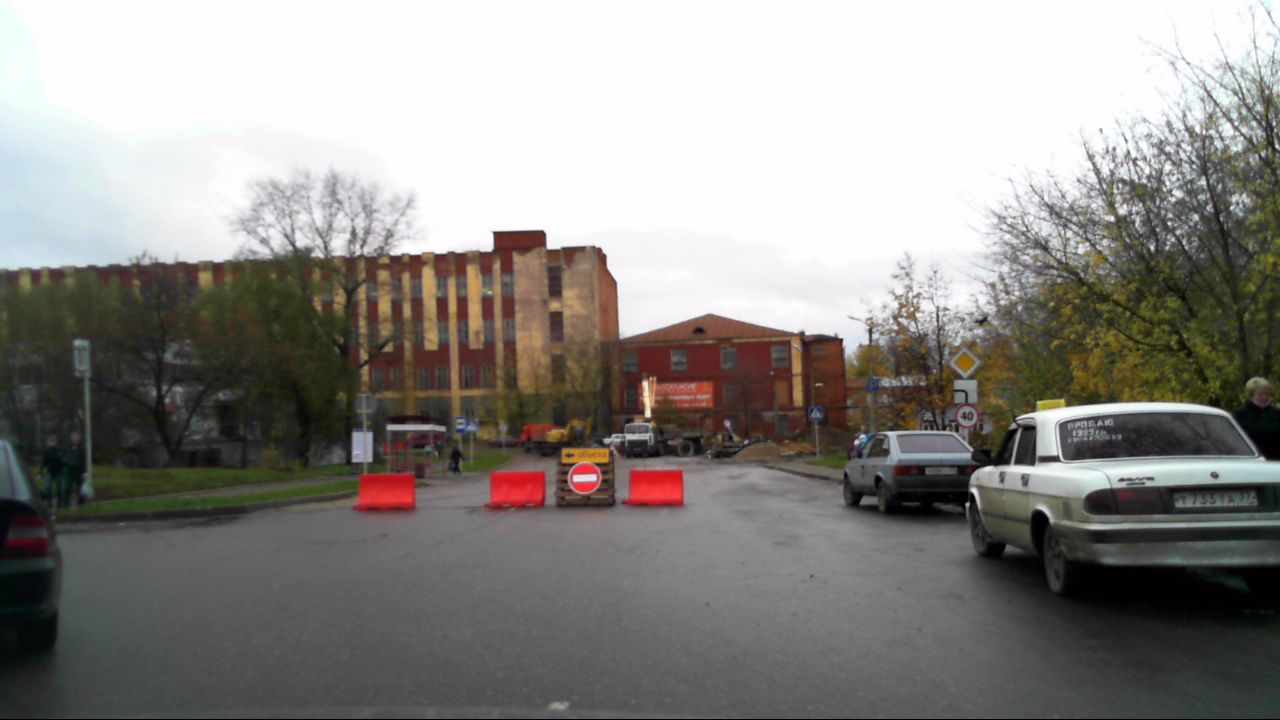speed_warning_40: (955, 403, 980, 427)
